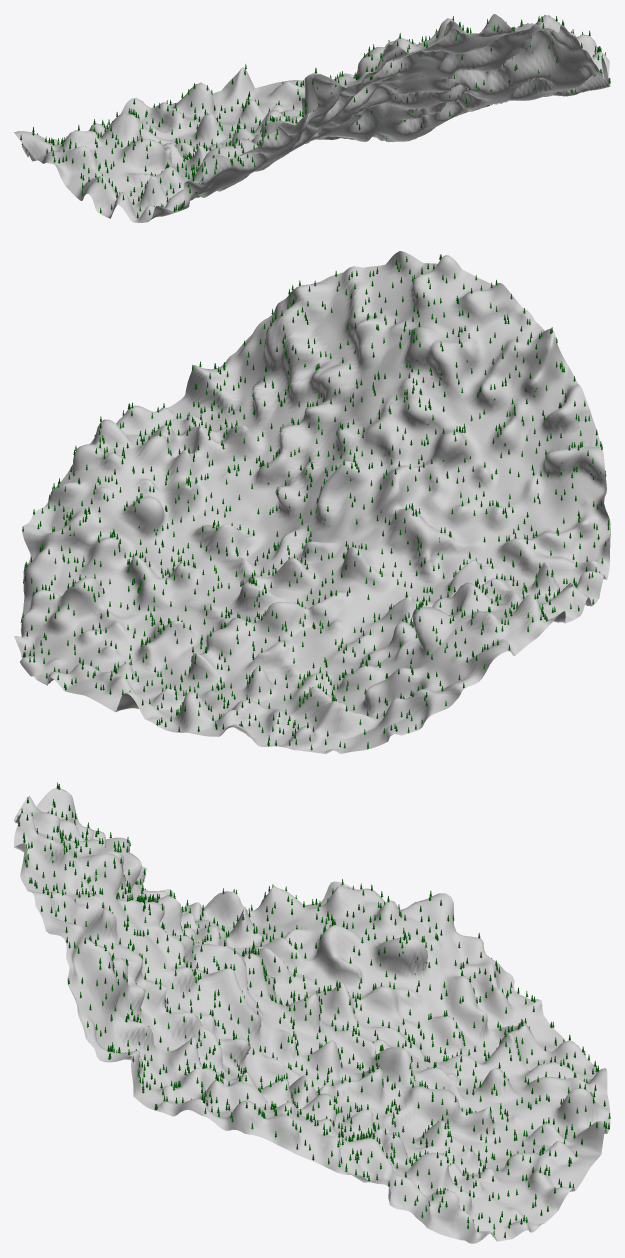
File: Forest_Mountain_V_0_3.fbx
The picture shows the model from 3 angles, top to bottom: view 1: azimuth 30°, elevation 25°; view 2: azimuth 150°, elevation 25°; view 3: azimuth 270°, elevation 25°; orthographic projection. The views are drawn at different scales.
Visible parts, largest first — view 1: Plane; view 2: Plane; view 3: Plane.
Boxes of the visible parts, <box> form: Plane: <box>14,14,610,222</box>; Plane: <box>14,251,610,753</box>; Plane: <box>14,782,610,1243</box>.
Bounding box in the file's own units: 371 × 202 × 339.
